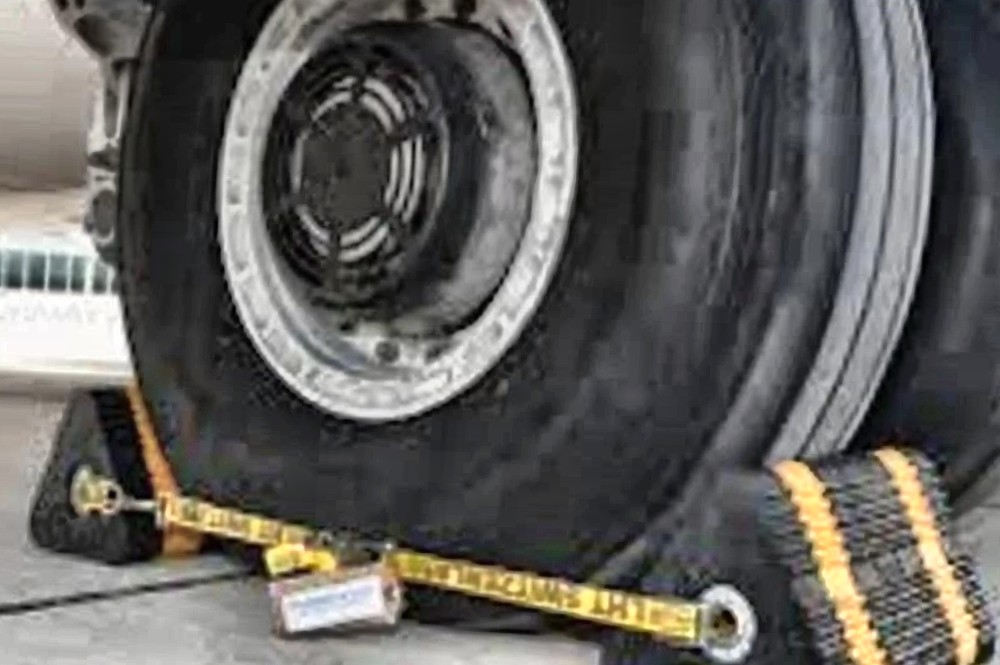chock: (587, 436, 1000, 665), (23, 379, 183, 565)
wheel: (60, 0, 977, 612), (818, 0, 1000, 518)
